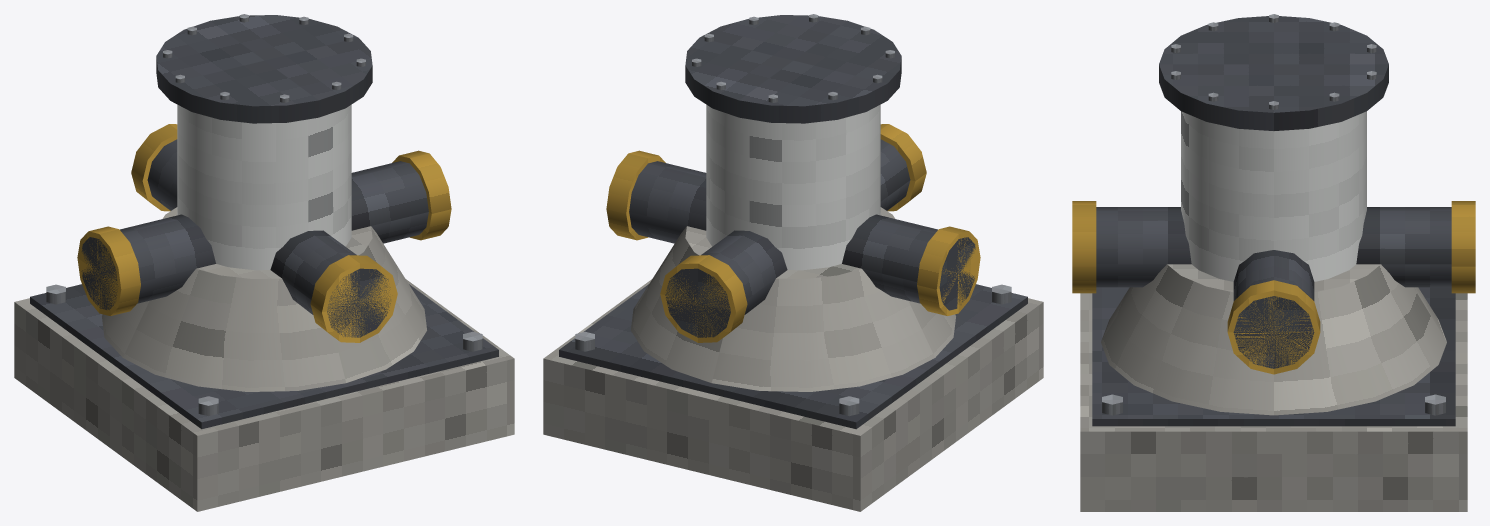
The model's file is tower_base.obj.
3 views of the same model, side by side, from view 1: azimuth 30°, elevation 25°; view 2: azimuth 150°, elevation 25°; view 3: azimuth 270°, elevation 25° (orthographic). The views are drawn at different scales.
Size of the model in its own units: 0.9881 by 1 by 0.9881.
